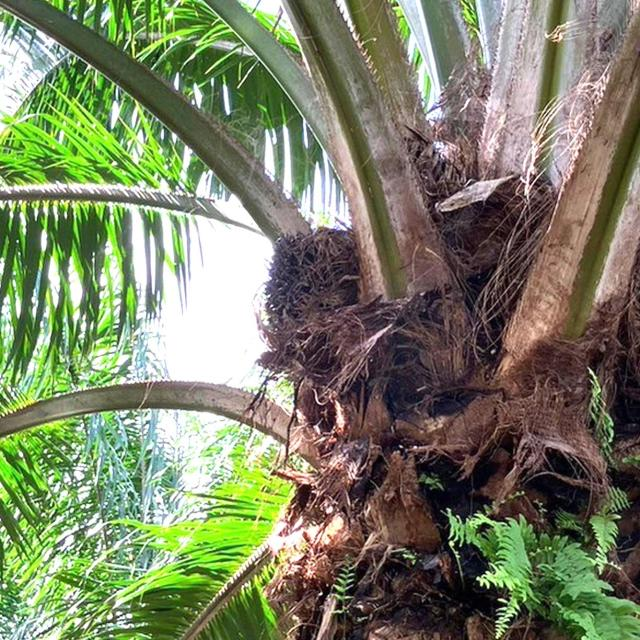unripe: (255, 235, 363, 356)
